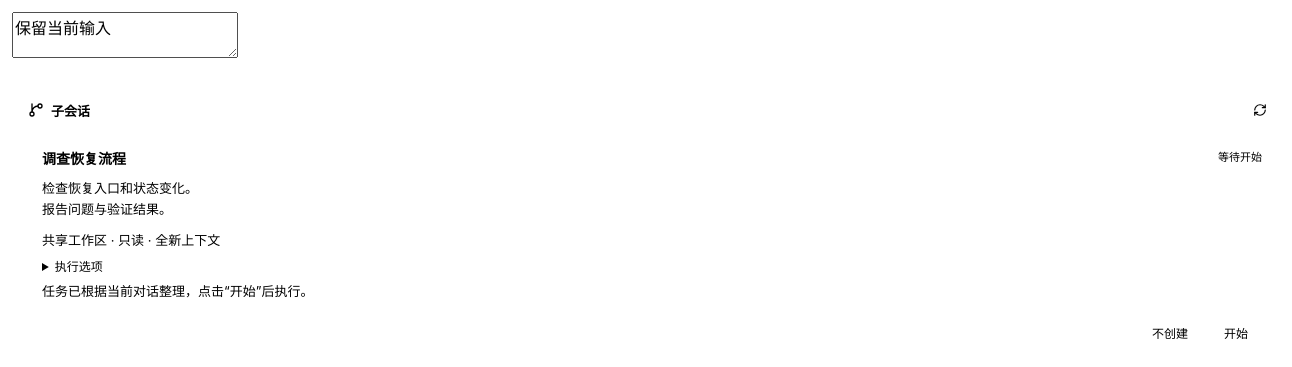
Test: reconciles a proposal started elsewhere on refresh without creating another assignment
Check: the button "开始" is shown, box left=1210, top=314, right=1262, bottom=350
Click the button named "刷新": (1260, 110) left=1244, top=96, right=1276, bottom=124
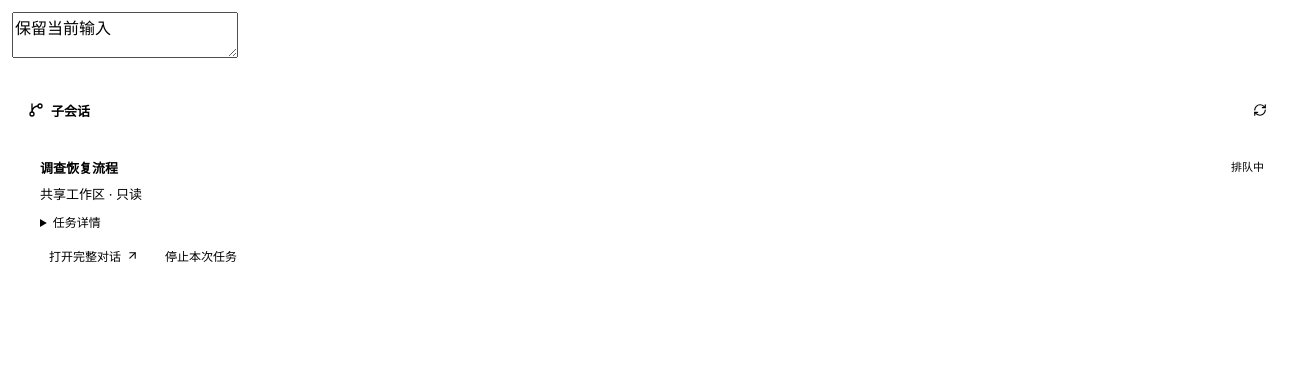
Check: the button "打开完整对话" is shown, box left=40, top=242, right=148, bottom=270
Check: the text "开始" is gone
